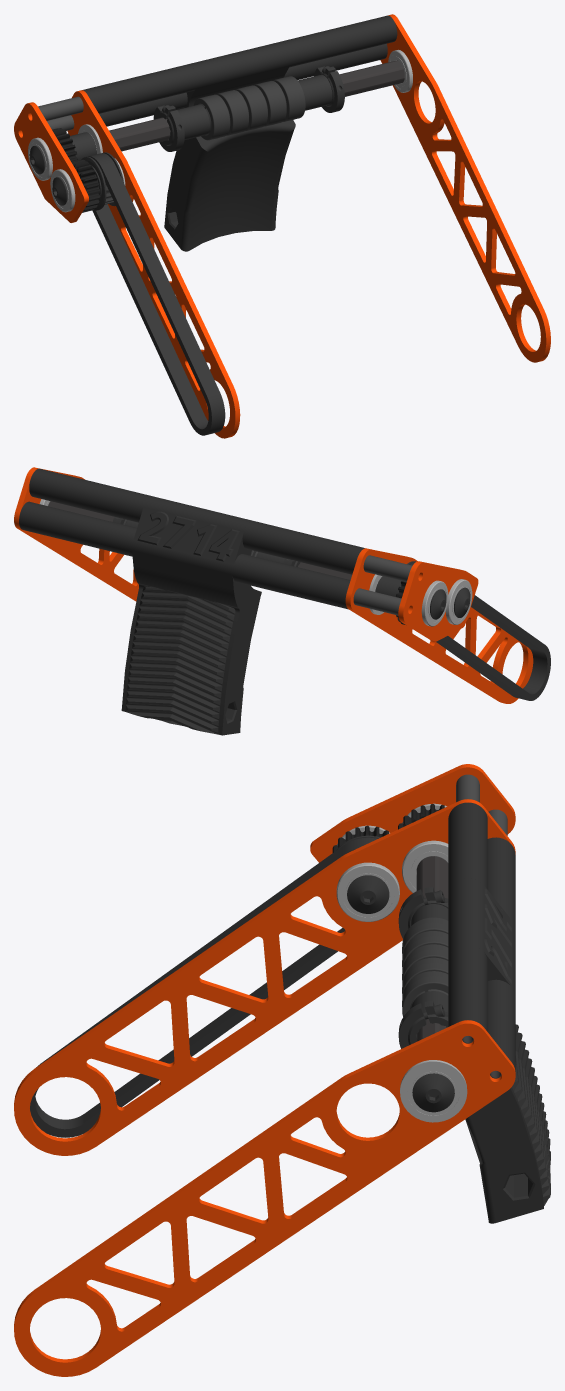
The picture shows the model from 3 angles, top to bottom: view 1: azimuth 30°, elevation 25°; view 2: azimuth 150°, elevation 25°; view 3: azimuth 270°, elevation 25°; orthographic projection. The views are drawn at different scales.
Parts seen in each view (by area): view 1: 2714-26-P-2003 (×2), 2714-26-P-2023, 80t 5mm Belt, 2714-26-P-2013 (×4), REV-20-1954 (×5), 1/2" Rounded Hex (REV) (9.843 in), 2714-26-P-2010, 1/2" Hex Clamping Shaft Collar (Narrow) (×2), 1/2in Rounded Hex Bearing - Flanged - 1in OD (REV-21-3197) (×3), 1/2" Hex Shaft Spacer (1/2" L, .720" OD, Acetal) (×2), 20DP Gear - 1/2in Hex - 22T (REV-21-1922), 2714-26-P-2011 (+1 smaller); view 2: 2714-26-P-2023, 2714-26-P-2013 (×4), 2714-26-P-2003 (×2), 80t 5mm Belt, 2714-26-P-2010, 2714-26-P-2011 (×2), 1/2in Rounded Hex Bearing - Flanged - 1in OD (REV-21-3197) (×2), #10-32 x 0.5" L Shaft End Screw (V2, Steel, Black Oxide) (×2), 1/2" Rounded Hex (REV) (9.843 in), 1/2" Hex Shaft Spacer (1/2" L, .720" OD, Acetal); view 3: 2714-26-P-2003 (×2), 2714-26-P-2023, 2714-26-P-2013 (×4), 80t 5mm Belt, 1/2in Rounded Hex Bearing - Flanged - 1in OD (REV-21-3197) (×3), 2714-26-P-2010, #10-32 x 0.5" L Shaft End Screw (V2, Steel, Black Oxide) (×2), 1/2" Hex Clamping Shaft Collar (Narrow) (×2), 1/2" Rounded Hex (REV) (9.843 in), REV-20-1954.
Part boxes in pixels (x1,y1,x2,y2): 2714-26-P-2003 (×2): (67, 14, 550, 438); 2714-26-P-2023: (164, 41, 295, 251); 80t 5mm Belt: (88, 153, 225, 435); 2714-26-P-2013 (×4): (82, 15, 397, 126); REV-20-1954 (×5): (193, 76, 305, 140); 1/2" Rounded Hex (REV) (9.843 in): (109, 60, 404, 151); 2714-26-P-2010: (14, 102, 88, 222); 1/2" Hex Clamping Shaft Collar (Narrow) (×2): (153, 66, 344, 151); 1/2in Rounded Hex Bearing - Flanged - 1in OD (REV-21-3197) (×3): (28, 49, 419, 212); 1/2" Hex Shaft Spacer (1/2" L, .720" OD, Acetal) (×2): (180, 77, 322, 139); 20DP Gear - 1/2in Hex - 22T (REV-21-1922): (71, 159, 100, 212); 2714-26-P-2011: (38, 96, 83, 120); 2714-26-P-2023: (121, 496, 261, 735); 2714-26-P-2013 (×4): (19, 468, 364, 609); 2714-26-P-2003 (×2): (14, 467, 533, 703); 80t 5mm Belt: (410, 562, 550, 700); 2714-26-P-2010: (398, 561, 478, 641); 2714-26-P-2011 (×2): (353, 555, 412, 615); 1/2in Rounded Hex Bearing - Flanged - 1in OD (REV-21-3197) (×2): (421, 579, 472, 626); #10-32 x 0.5" L Shaft End Screw (V2, Steel, Black Oxide) (×2): (430, 587, 470, 619); 1/2" Rounded Hex (REV) (9.843 in): (48, 501, 351, 579); 1/2" Hex Shaft Spacer (1/2" L, .720" OD, Acetal): (375, 576, 401, 596); 2714-26-P-2003 (×2): (14, 799, 515, 1376); 2714-26-P-2023: (448, 878, 550, 1223); 2714-26-P-2013 (×4): (448, 802, 515, 1071); 80t 5mm Belt: (30, 837, 377, 1137); 1/2in Rounded Hex Bearing - Flanged - 1in OD (REV-21-3197) (×3): (336, 840, 467, 1122); 2714-26-P-2010: (310, 764, 515, 862); #10-32 x 0.5" L Shaft End Screw (V2, Steel, Black Oxide) (×2): (347, 875, 454, 1112); 1/2" Hex Clamping Shaft Collar (Narrow) (×2): (398, 887, 448, 1048); 1/2" Rounded Hex (REV) (9.843 in): (416, 856, 448, 1041); REV-20-1954: (402, 971, 448, 1016).
Size of the model in its own units: 0.2576 by 0.1563 by 0.2152.
